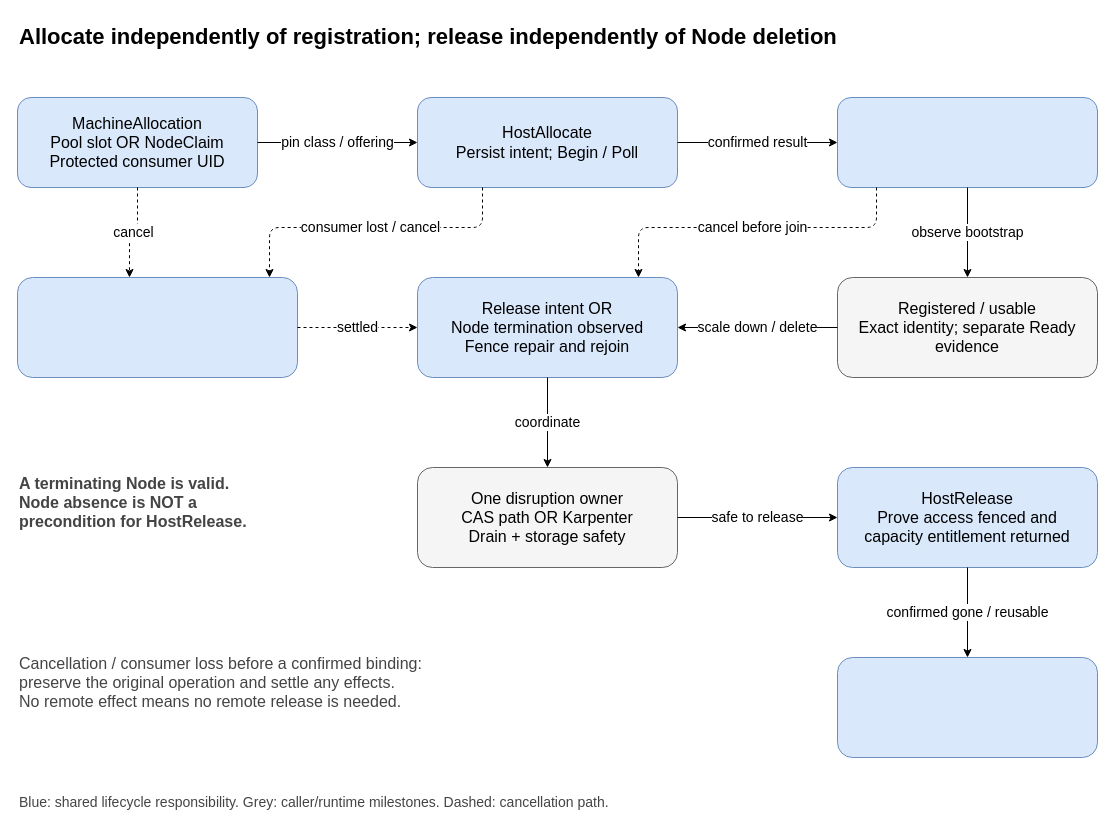
The diagram is 1115 pixels wide and 834 high, and some of its shapes have lost their labels. The shapes that lost their labels are listed below. From the top down, each one's centre as x and y in pixels, then its label:
point (967, 142): Allocated Recoverable provider binding
point (157, 327): Settle original allocation Unknown stays blocked No new provisioning request
point (967, 707): Released Allow finalizer removal Finish remaining Node cleanup
